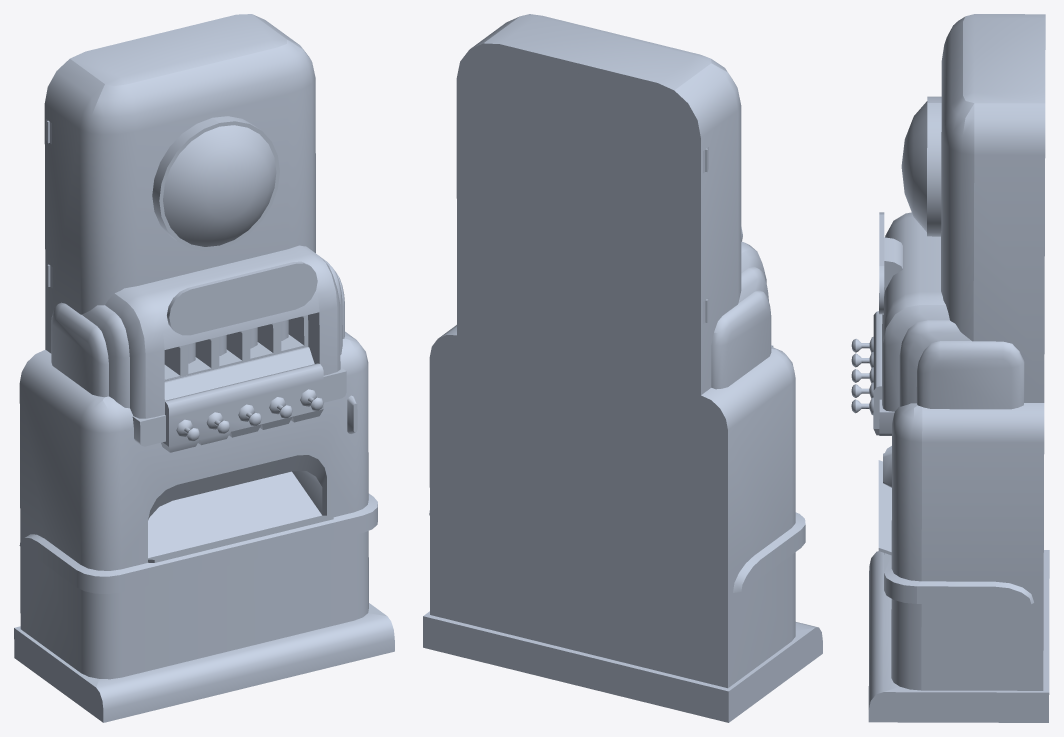
Rendered from Staminup Machine.fbx.
3 renders of one model, left to right at view 1: azimuth 30°, elevation 25°; view 2: azimuth 150°, elevation 25°; view 3: azimuth 270°, elevation 25°, orthographic. The views are drawn at different scales.
Visible parts, largest first — view 1: staminup; view 2: staminup; view 3: staminup.
Boxes of the visible parts, left/top/right/bottom form: staminup: left=14, top=14, right=394, bottom=722; staminup: left=423, top=14, right=822, bottom=722; staminup: left=851, top=14, right=1049, bottom=722.
Bounding box in the file's own units: 4645 × 8820 × 2657.
